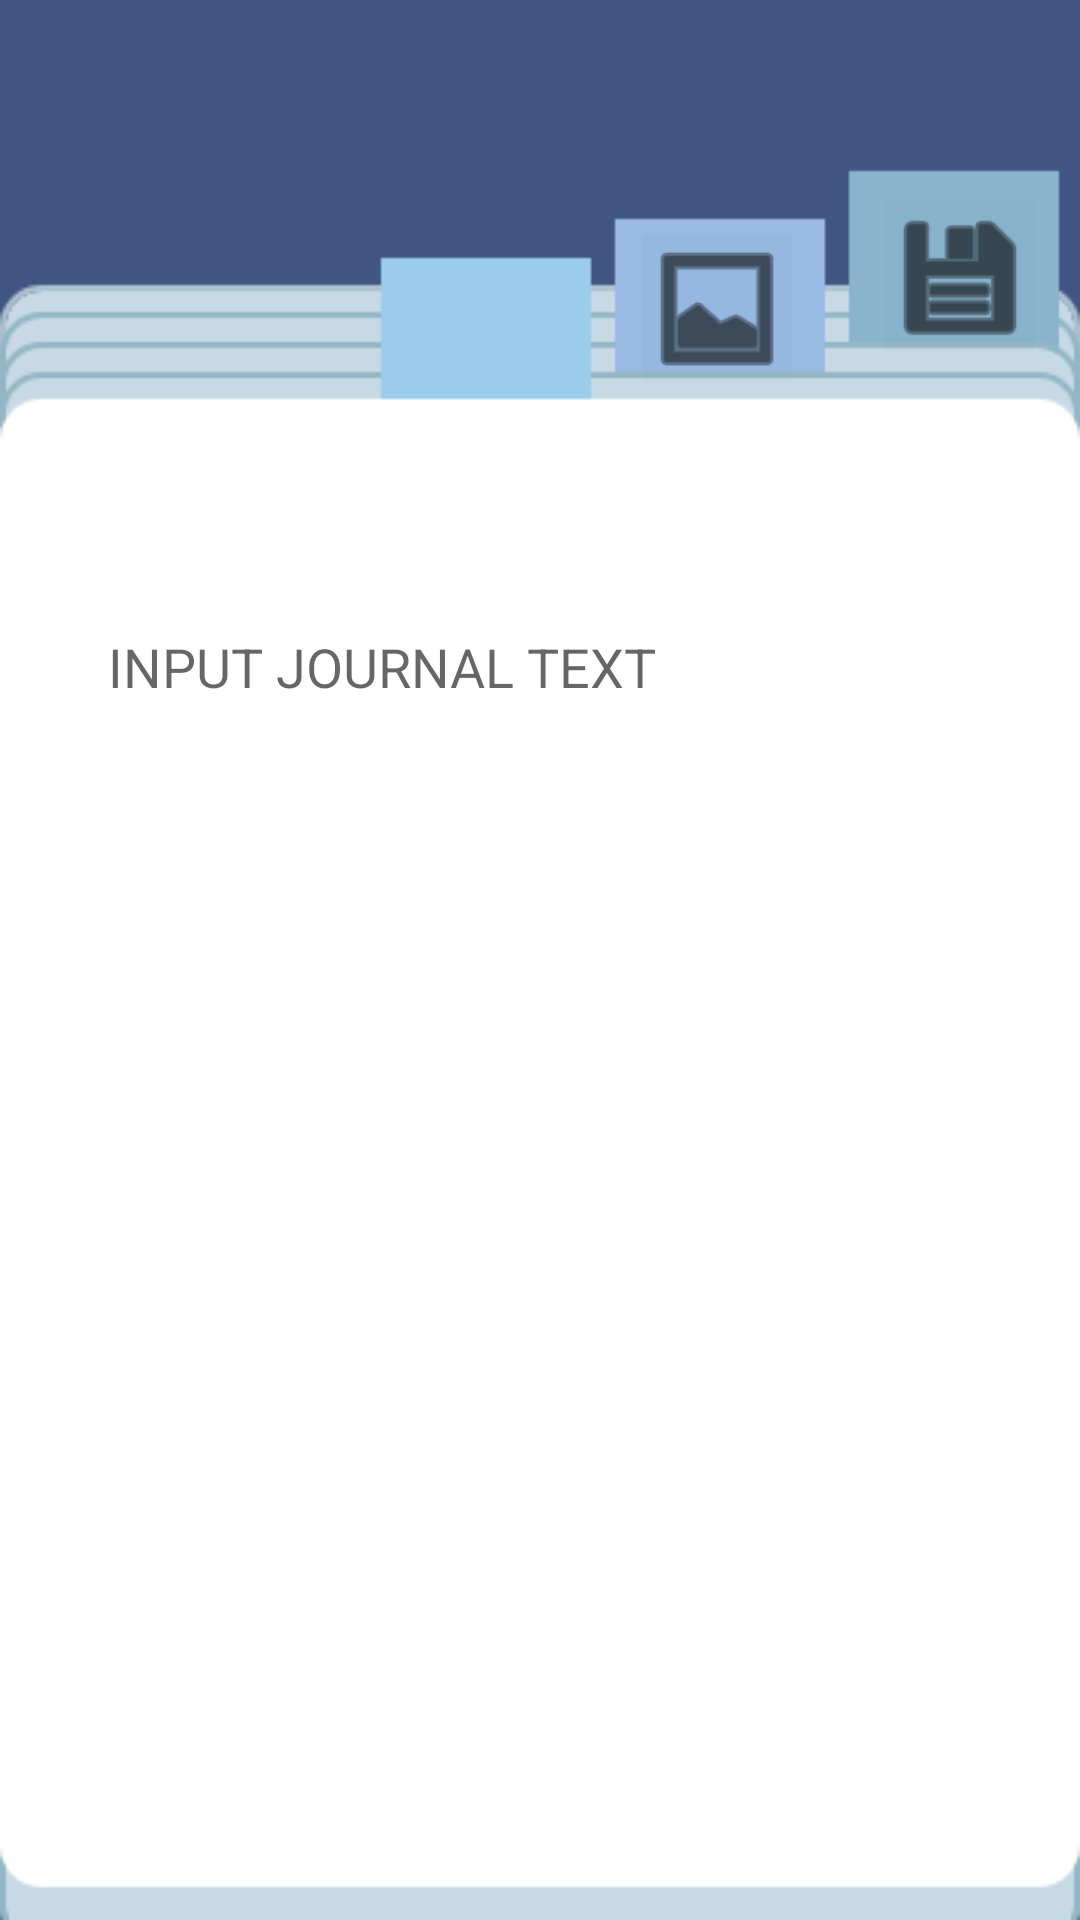

Where to tap for icons on this 1080 × 1920 app screen, as [x,y]:
SAVE: [960,277]
